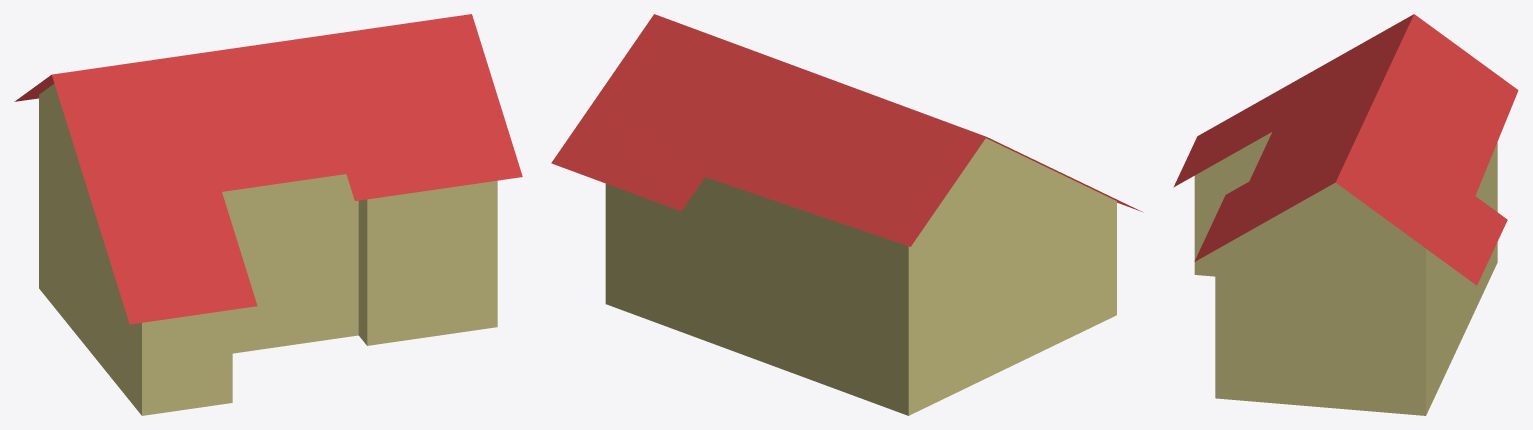
The picture shows the model from 3 angles, left to right: view 1: azimuth 30°, elevation 25°; view 2: azimuth 150°, elevation 25°; view 3: azimuth 270°, elevation 25°; orthographic projection. The views are drawn at different scales.
Size of the model in its own units: 25.97 by 19.1 by 14.27.
